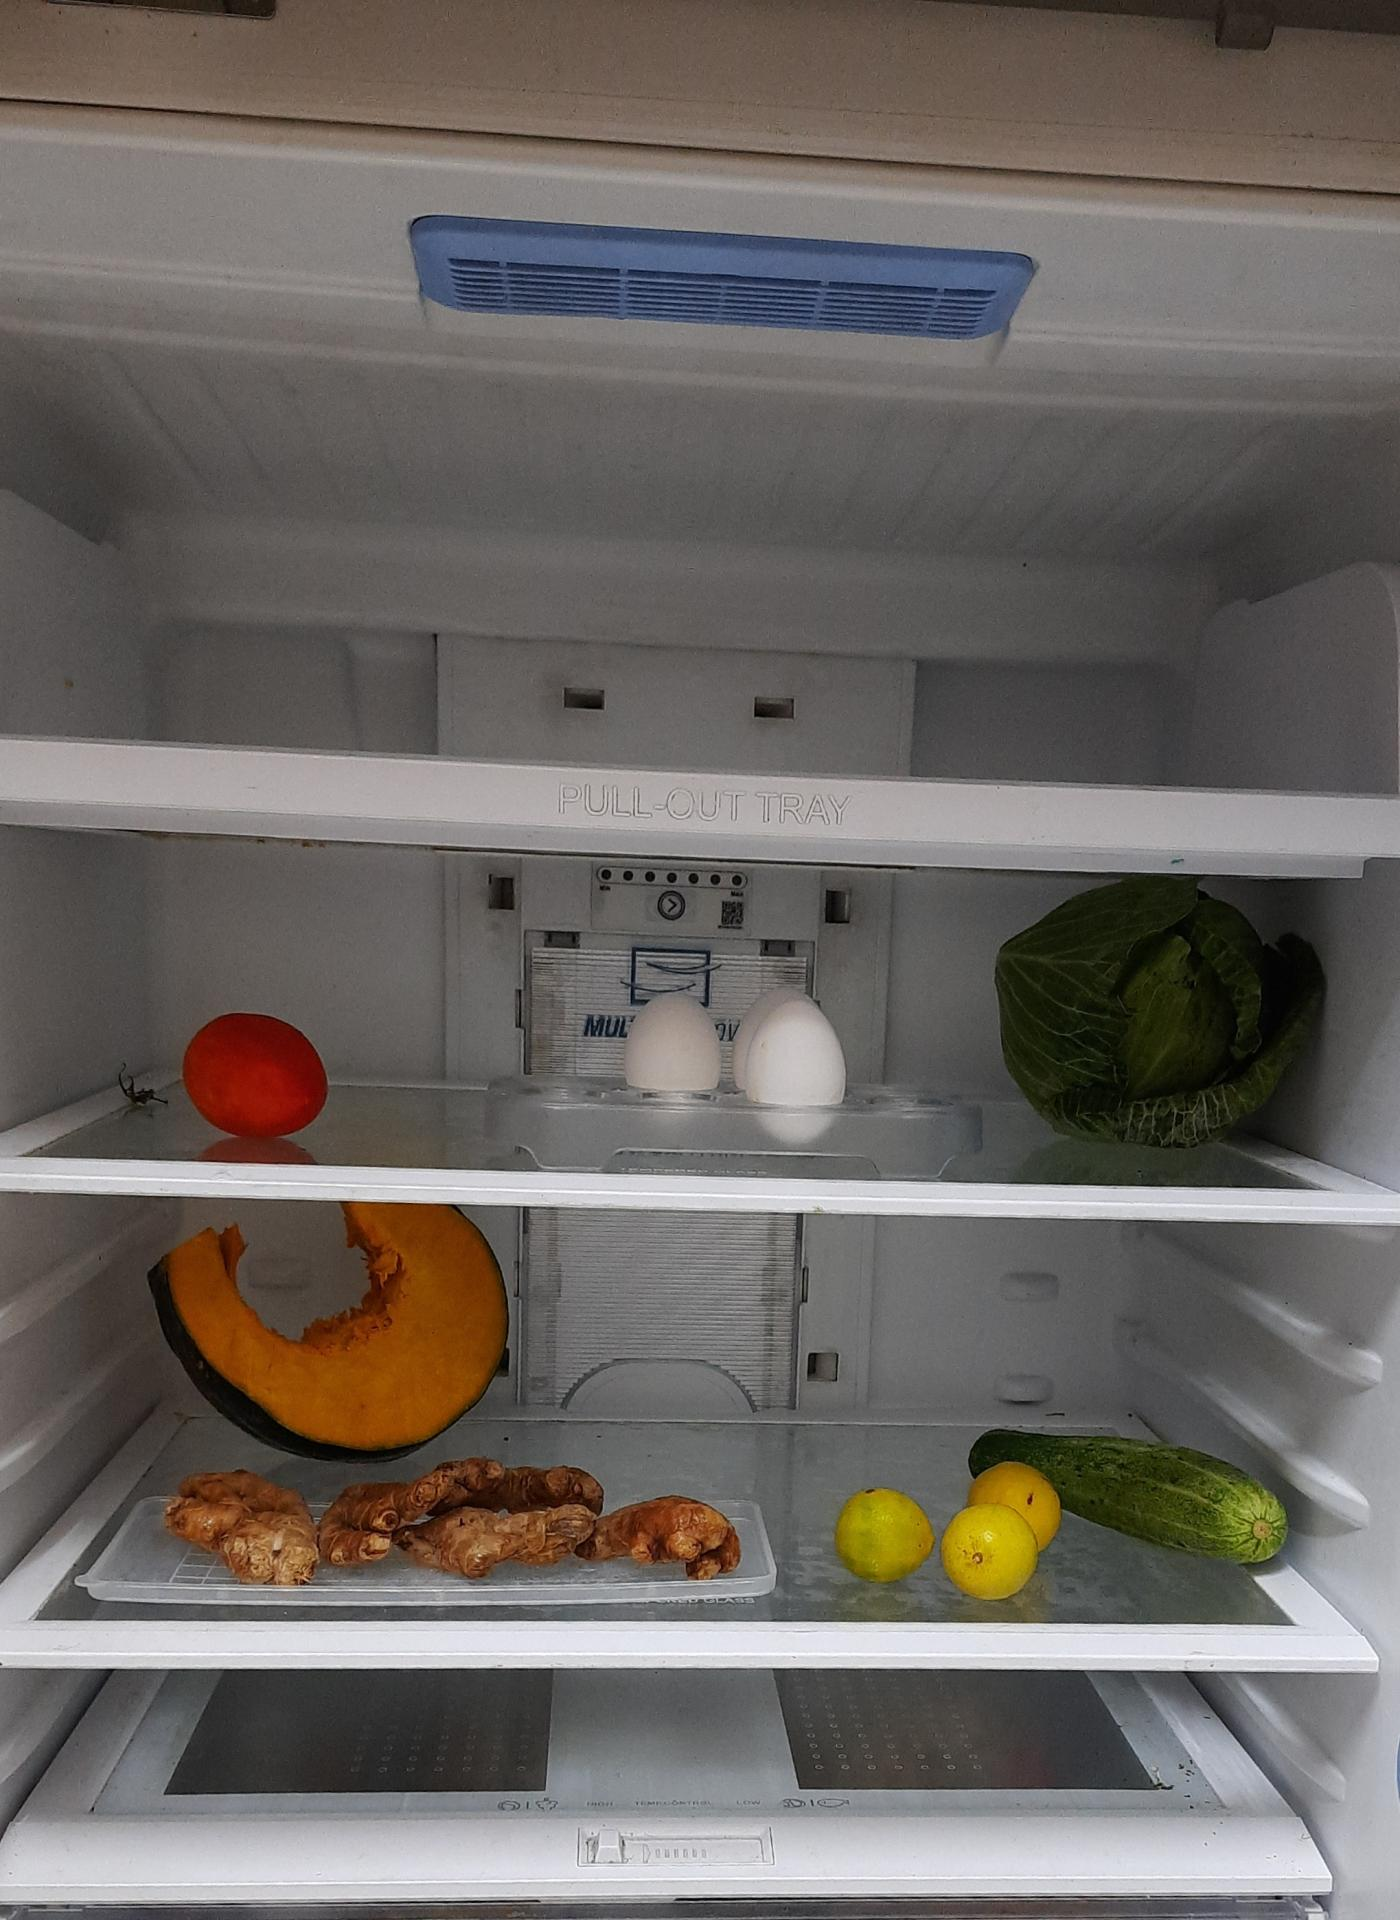cabbage: (997, 880, 1333, 1149)
cucumber: (980, 1428, 1296, 1561)
egg: (626, 991, 854, 1134)
ginger: (160, 1447, 753, 1588)
lemon: (945, 1462, 1068, 1598), (832, 1491, 936, 1586)
pumpkin: (155, 1199, 520, 1459)
tomato: (182, 1011, 329, 1136)
